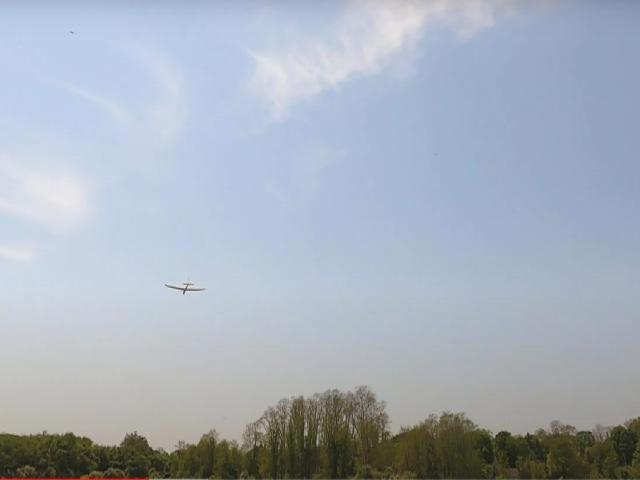iha: (162, 275, 212, 296)
